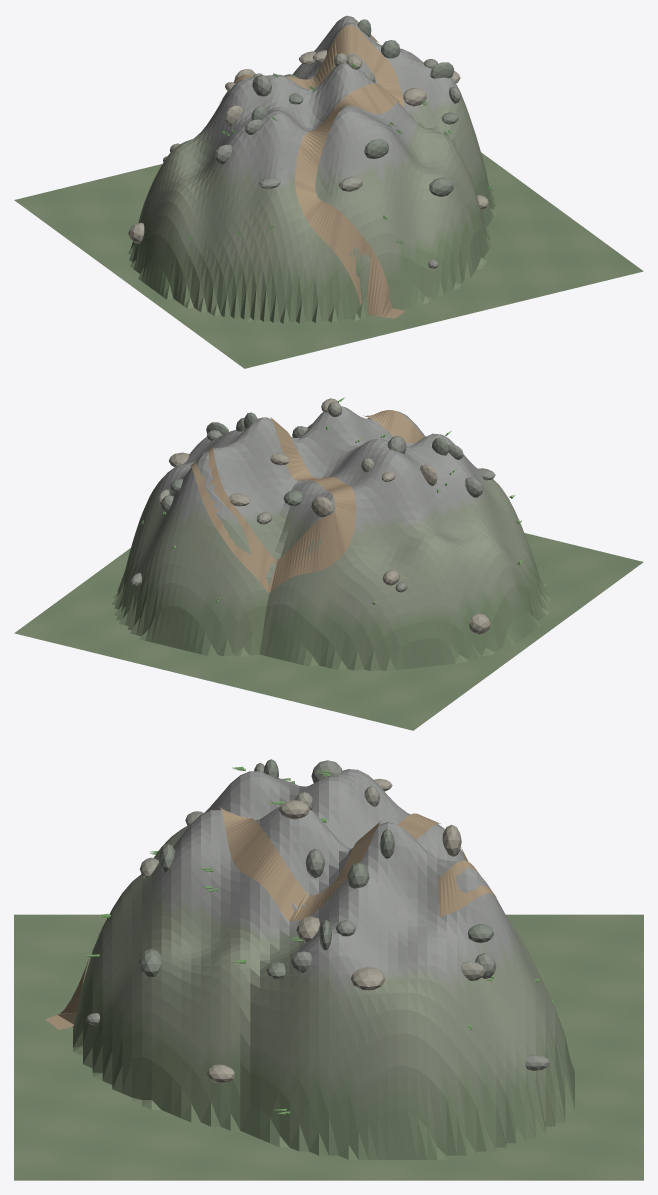
Rendered from Montanha.glb.
3 views of the same model, one above another, from view 1: azimuth 30°, elevation 25°; view 2: azimuth 150°, elevation 25°; view 3: azimuth 270°, elevation 25° (orthographic). The views are drawn at different scales.
Parts seen in each view (by area): view 1: Montanha_rochosa, Trilha_sinuosa_percorrivel; view 2: Montanha_rochosa, Trilha_sinuosa_percorrivel; view 3: Montanha_rochosa, Trilha_sinuosa_percorrivel, Afloramento_63.
Boxes of the visible parts, x1,y1,x2,y2 form: Montanha_rochosa: [14, 15, 643, 368]; Trilha_sinuosa_percorrivel: [220, 19, 405, 318]; Montanha_rochosa: [14, 406, 643, 730]; Trilha_sinuosa_percorrivel: [190, 410, 423, 592]; Montanha_rochosa: [14, 769, 643, 1180]; Trilha_sinuosa_percorrivel: [45, 807, 496, 1029]; Afloramento_63: [351, 966, 385, 990].
Size of the model in its own units: 20 by 9.01 by 20.
